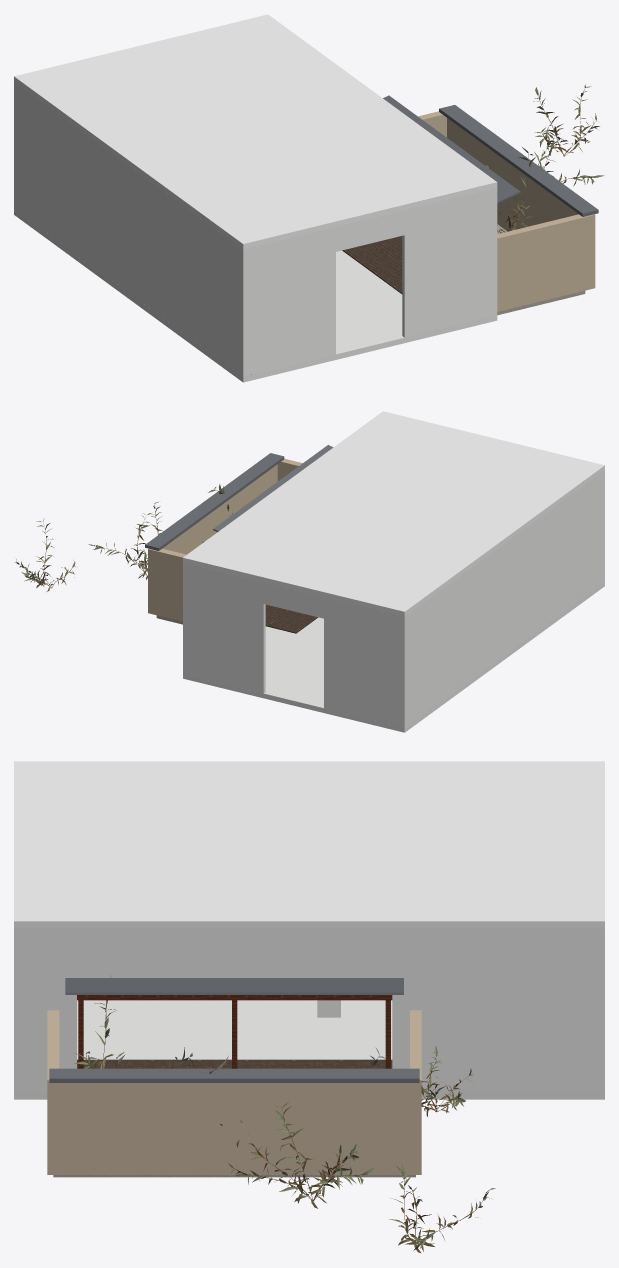
The model's file is room_engawa_s1.glb.
3 views of the same model, one above another, from view 1: azimuth 30°, elevation 25°; view 2: azimuth 150°, elevation 25°; view 3: azimuth 270°, elevation 25° (orthographic). The views are drawn at different scales.
Parts seen in each view (by area): view 1: room_engawa_s1_static; view 2: room_engawa_s1_static; view 3: room_engawa_s1_static.
Part boxes in pixels (<box>): room_engawa_s1_static: <box>14,14,604,382</box>; room_engawa_s1_static: <box>15,411,604,732</box>; room_engawa_s1_static: <box>14,761,604,1253</box>.
Size of the model in its own units: 19.56 by 5.68 by 15.
19 materials, 7 textured.
